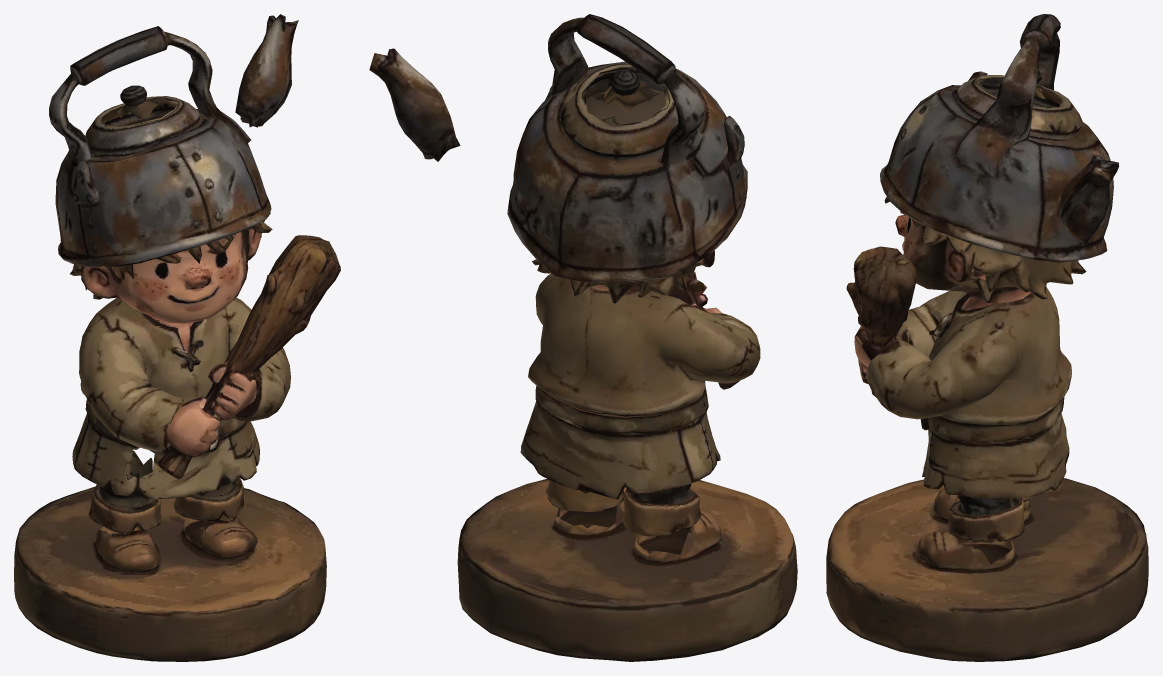
File: hero-pip.glb
The picture shows the model from 3 angles, left to right: view 1: azimuth 30°, elevation 25°; view 2: azimuth 150°, elevation 25°; view 3: azimuth 270°, elevation 25°; orthographic projection. The views are drawn at different scales.
Visible parts, largest first — view 1: geometry_0; view 2: geometry_0; view 3: geometry_0.
Part boxes in pixels (left/top/right/bottom): geometry_0: left=14, top=14, right=340, bottom=661; geometry_0: left=369, top=14, right=797, bottom=661; geometry_0: left=826, top=14, right=1148, bottom=661.
Size of the model in its own units: 0.5181 by 0.8594 by 0.4393.
Materials: 1 (1 with a texture image).
